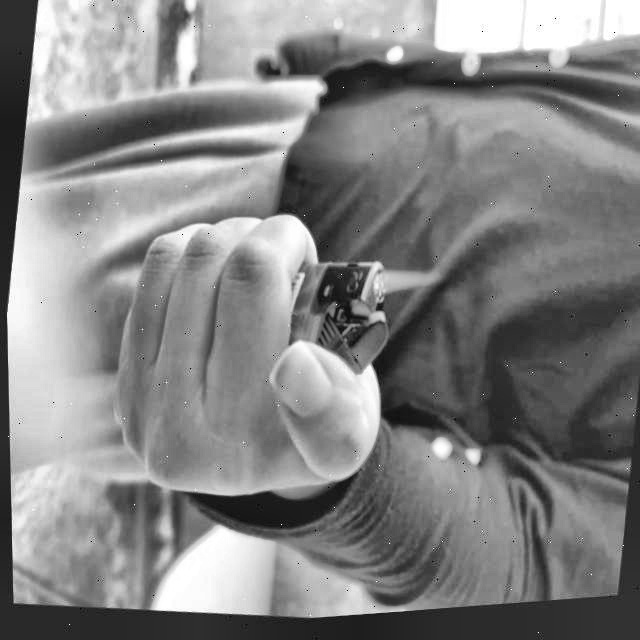Fire: (370, 268, 437, 312)
